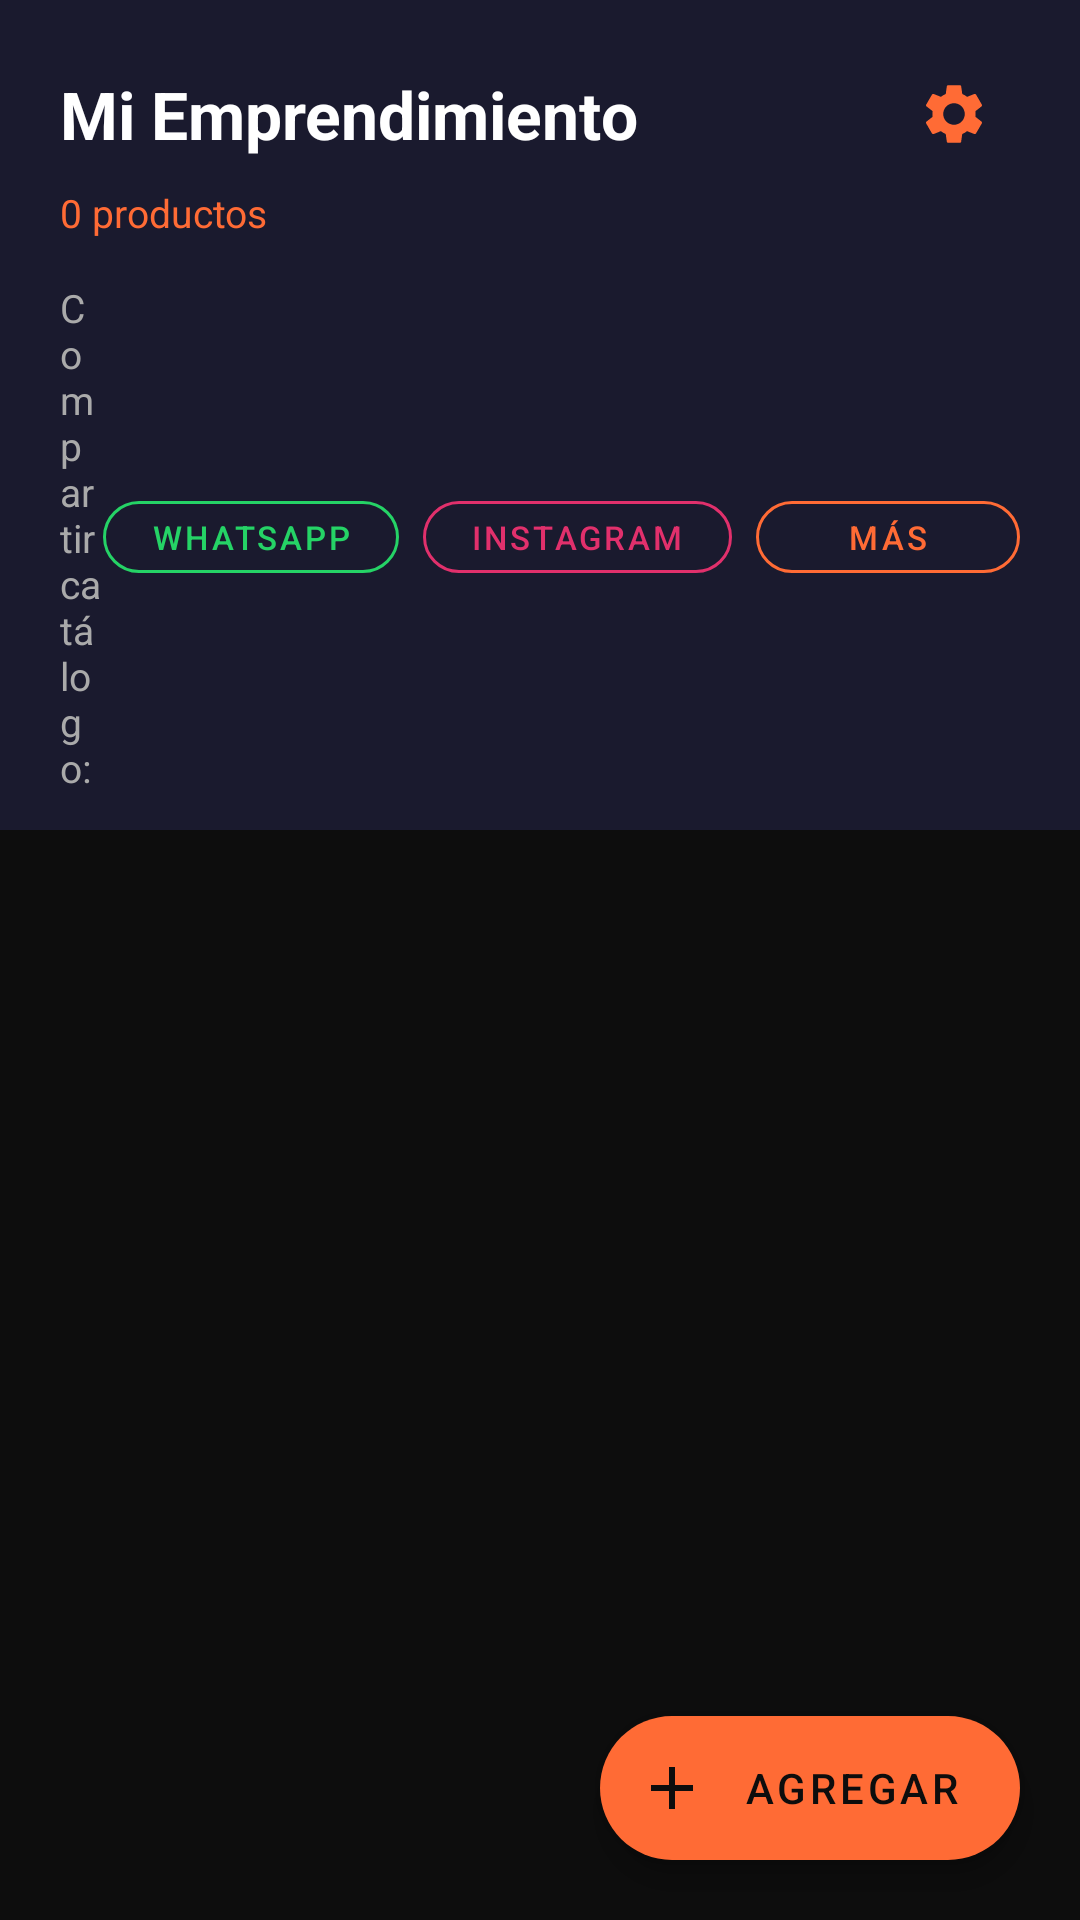

Icons on this 1080×1920 Android screen, each with its box as (left=x1, top=y1, right=x2, bottom=y2):
Configuración: (left=926, top=85, right=982, bottom=143)
